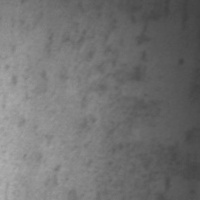pitted_surface: (56, 25, 182, 162)
